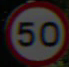Speed limit: (4, 4, 64, 59)
